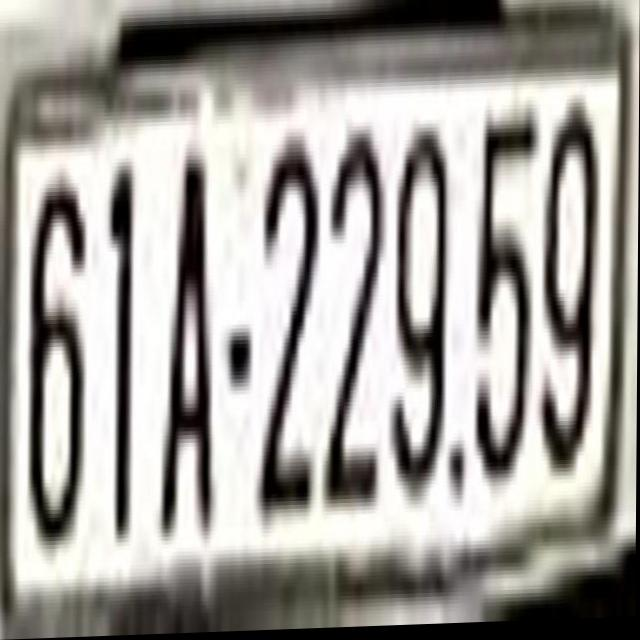1: (105, 143, 144, 563)
2: (322, 132, 386, 522), (256, 138, 318, 532)
5: (474, 112, 539, 510)
6: (28, 164, 86, 546)
9: (541, 103, 599, 500), (391, 126, 447, 512)
A: (156, 137, 222, 539)
